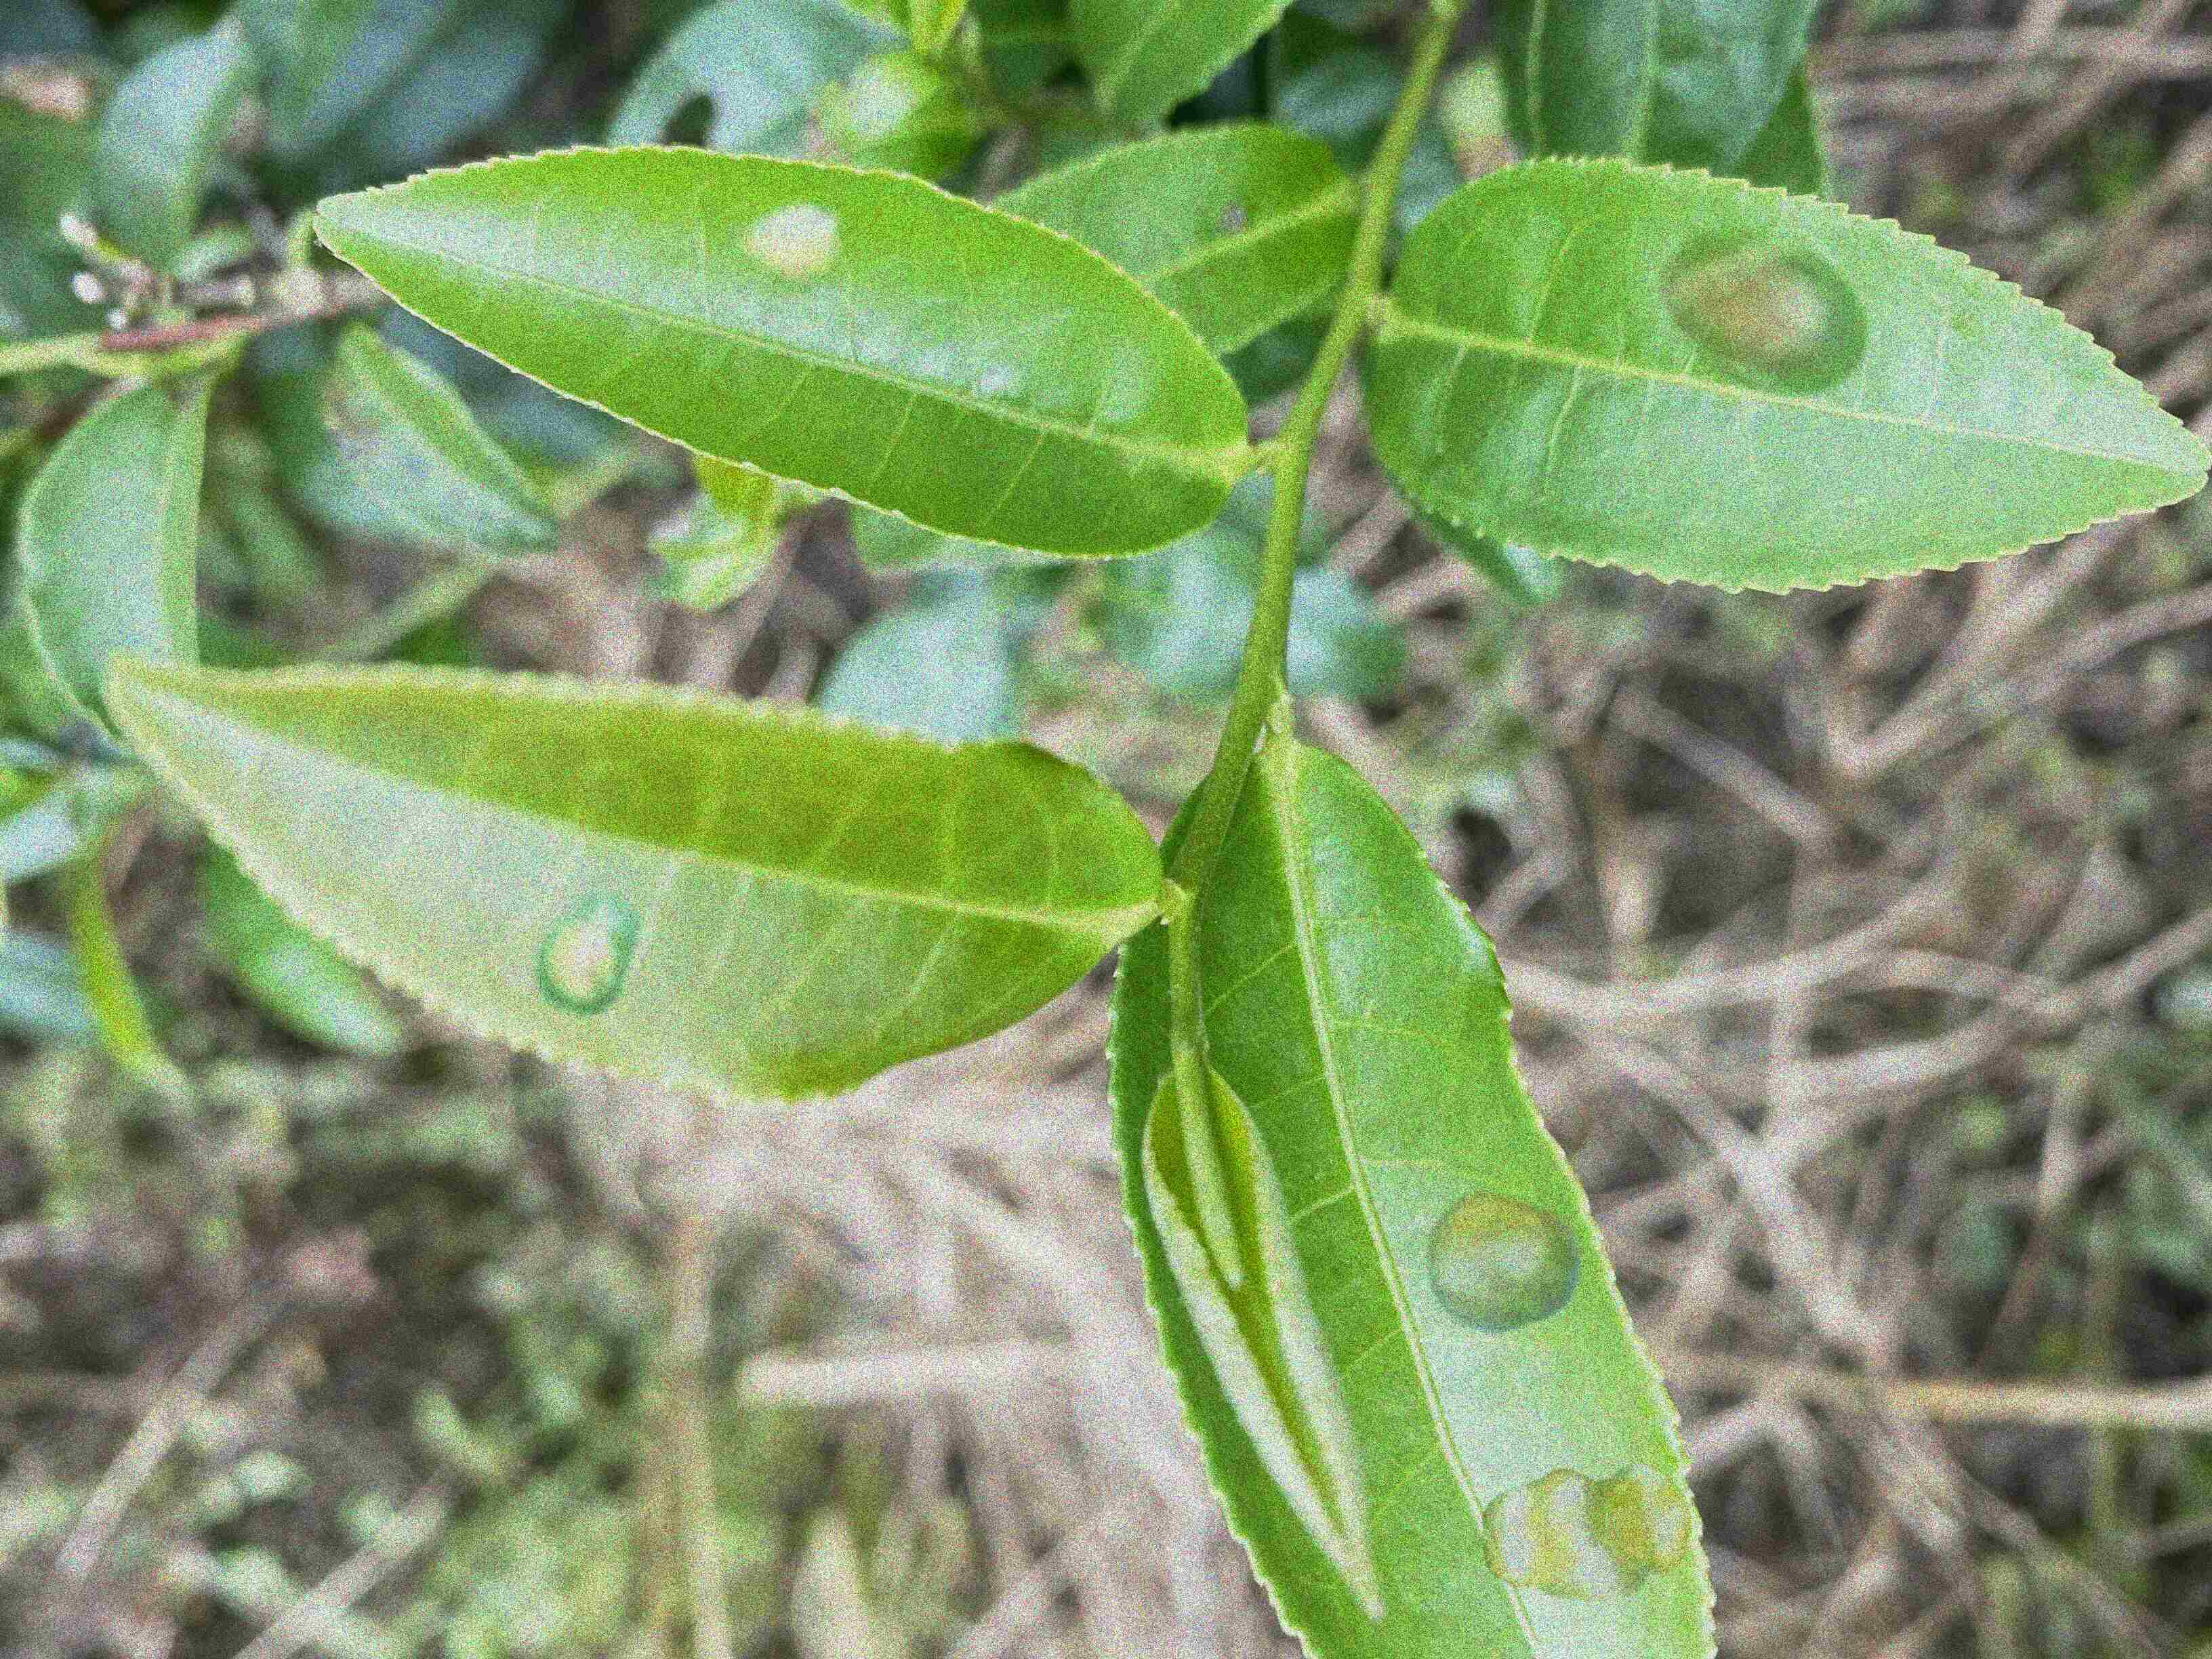chabing_high: (1103, 735, 1719, 1657)
chabing_low: (103, 659, 1167, 1107), (315, 141, 1256, 563), (1353, 155, 2207, 598)
